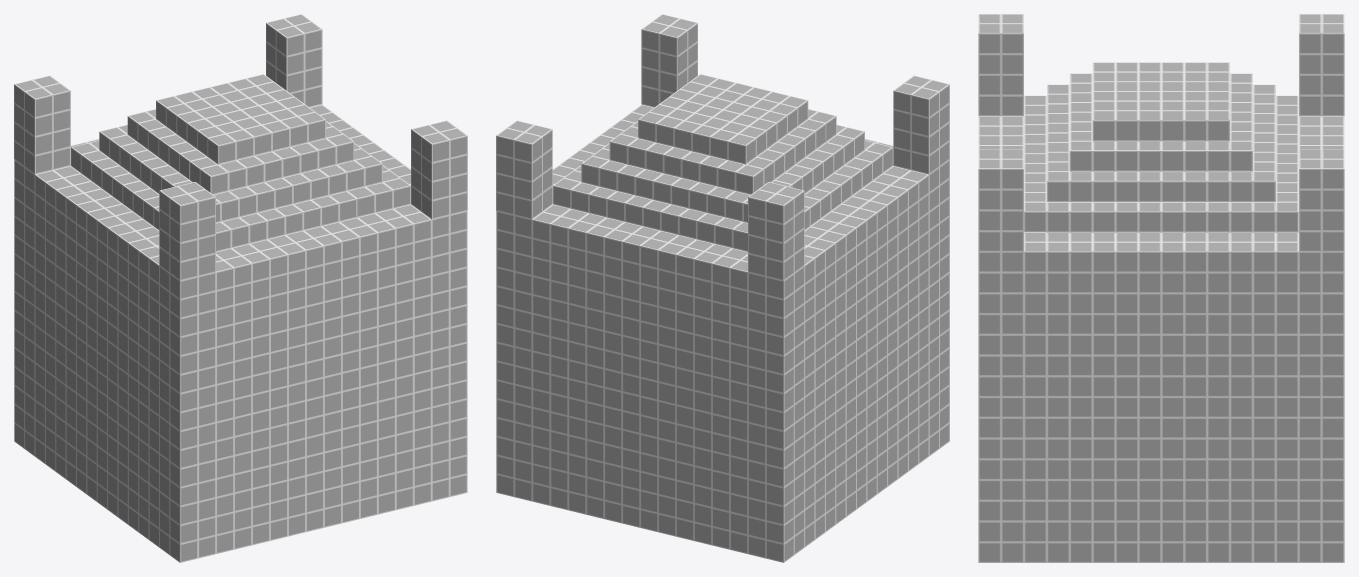
File: map_2.glb
The picture shows the model from 3 angles, left to right: view 1: azimuth 30°, elevation 25°; view 2: azimuth 150°, elevation 25°; view 3: azimuth 270°, elevation 25°; orthographic projection. The views are drawn at different scales.
Parts seen in each view (by area): view 1: Cube.241, Cube.013, Cube.975, Cube.127, Cube.1009, Cube.1020, Cube.221, Cube.540, Cube.840, Cube.031, Cube.159, Cube.009 (+37 smaller); view 2: Cube.128, Cube.014, Cube.979, Cube.242, Cube.976, Cube.1019, Cube.032, Cube.064, Cube.096, Cube.284, Cube.584, Cube.884 (+36 smaller); view 3: Cube.923, Cube.925, Cube.927, Cube.929, Cube.931, Cube.941, Cube.1471, Cube.1472, Cube.1473, Cube.1474, Cube.1483, Cube.1484 (+296 smaller).
Boxes of the visible parts, <box> form: Cube.241: <box>421,132,449,162</box>; Cube.013: <box>170,194,198,224</box>; Cube.975: <box>276,26,304,56</box>; Cube.127: <box>24,87,52,117</box>; Cube.1009: <box>207,134,235,164</box>; Cube.1020: <box>200,165,228,194</box>; Cube.221: <box>170,480,198,506</box>; Cube.540: <box>170,386,198,412</box>; Cube.840: <box>170,292,198,318</box>; Cube.031: <box>24,148,52,174</box>; Cube.159: <box>421,193,449,219</box>; Cube.009: <box>170,217,198,243</box>; Cube.128: <box>765,194,794,224</box>; Cube.014: <box>911,87,939,117</box>; Cube.979: <box>728,134,756,164</box>; Cube.242: <box>659,26,687,56</box>; Cube.976: <box>514,132,542,162</box>; Cube.1019: <box>735,164,763,194</box>; Cube.032: <box>765,255,794,280</box>; Cube.064: <box>765,236,794,261</box>; Cube.096: <box>765,217,794,243</box>; Cube.284: <box>766,480,794,506</box>; Cube.584: <box>766,386,794,412</box>; Cube.884: <box>766,292,794,318</box>; Cube.923: <box>1069,242,1092,272</box>; Cube.925: <box>1092,242,1115,272</box>; Cube.927: <box>1115,242,1138,272</box>; Cube.929: <box>1138,242,1161,272</box>; Cube.931: <box>1161,242,1184,272</box>; Cube.941: <box>1275,242,1298,272</box>; Cube.1471: <box>1161,141,1184,171</box>; Cube.1472: <box>1138,141,1161,171</box>; Cube.1473: <box>1115,141,1138,171</box>; Cube.1474: <box>1092,141,1115,171</box>; Cube.1483: <box>1161,202,1184,232</box>; Cube.1484: <box>1138,202,1161,232</box>.
Size of the model in its own units: 32 by 37.98 by 32.
1 material, 1 textured.
